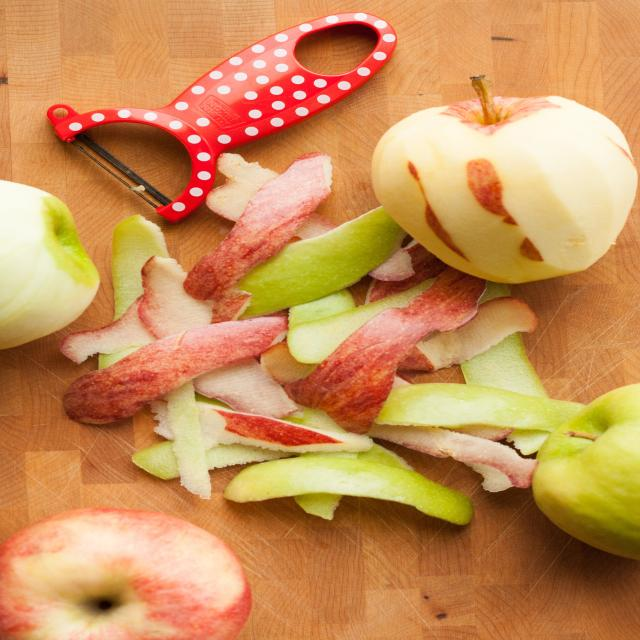Wet: (285, 262, 490, 434), (63, 316, 291, 426), (182, 151, 334, 301), (222, 456, 474, 526), (392, 296, 539, 371), (375, 383, 587, 432)
